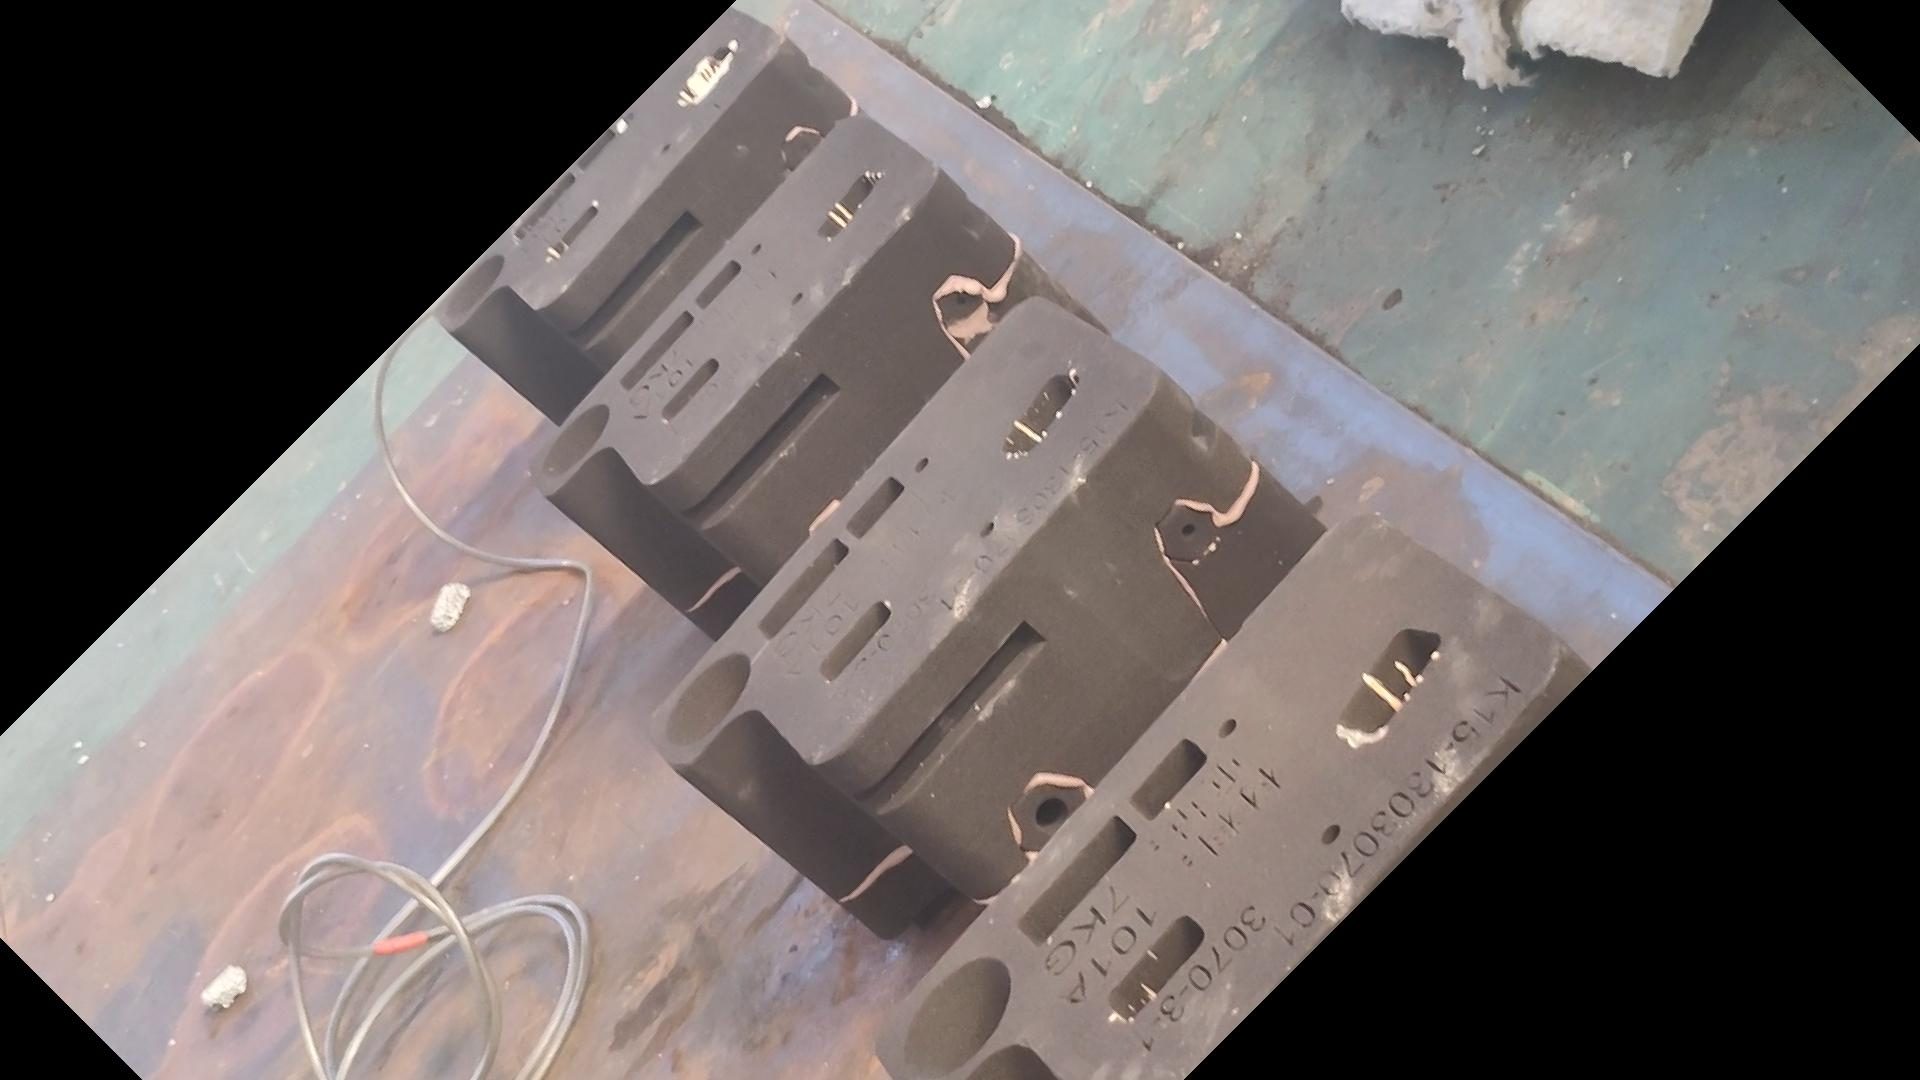pouring hole: (902, 956, 1010, 1080), (665, 653, 750, 748), (543, 405, 608, 479), (440, 255, 504, 319)
